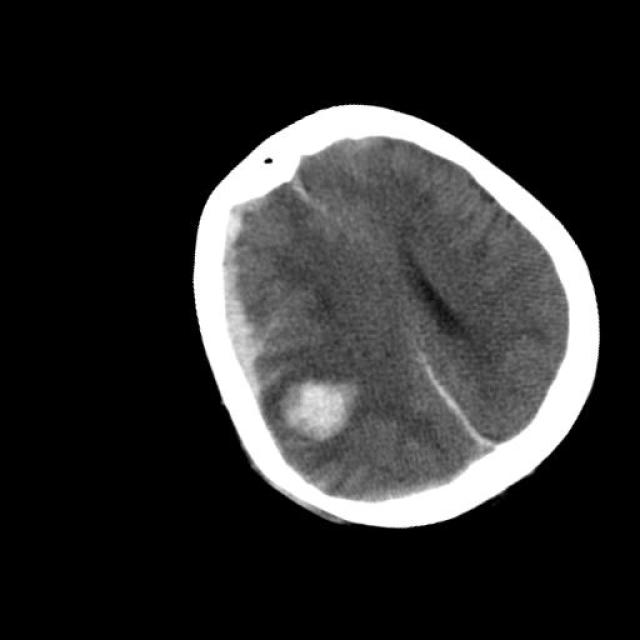Intraparenchymal: (266, 341, 390, 460)
Subarachnoid: (250, 283, 322, 358), (319, 449, 389, 505)
Subdural: (168, 191, 310, 411), (380, 326, 524, 490)
